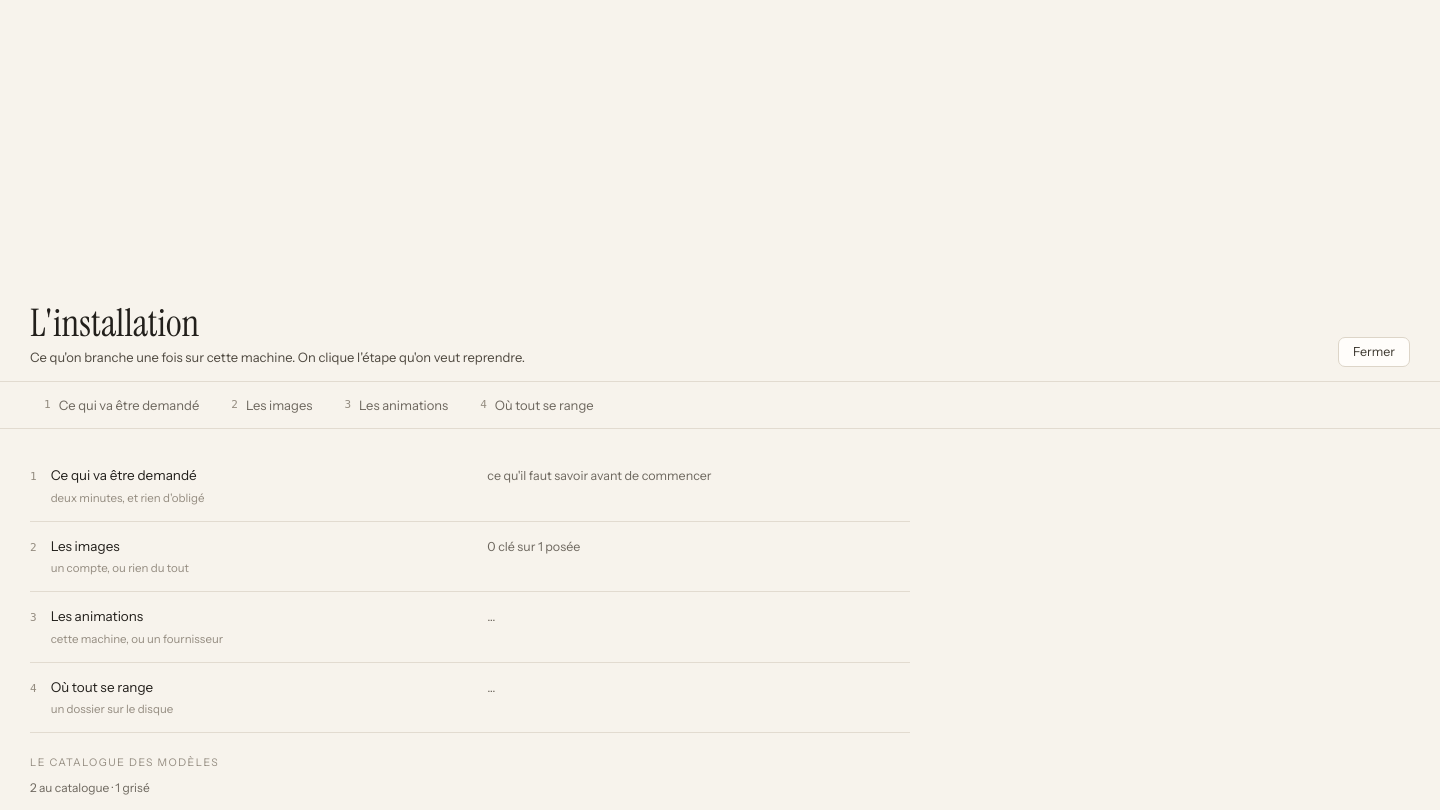
Test: la clé se pose, et ne se relit jamais › un fournisseur qui ne demande rien le dit, il ne se cache pas
(page scrolled)
What coordinates should you click on to do the following:
click the button "2 Les images"
I would click on:
 (272, 405)
Its box is x1=217 y1=390 x2=326 y2=420.
(page scrolled)
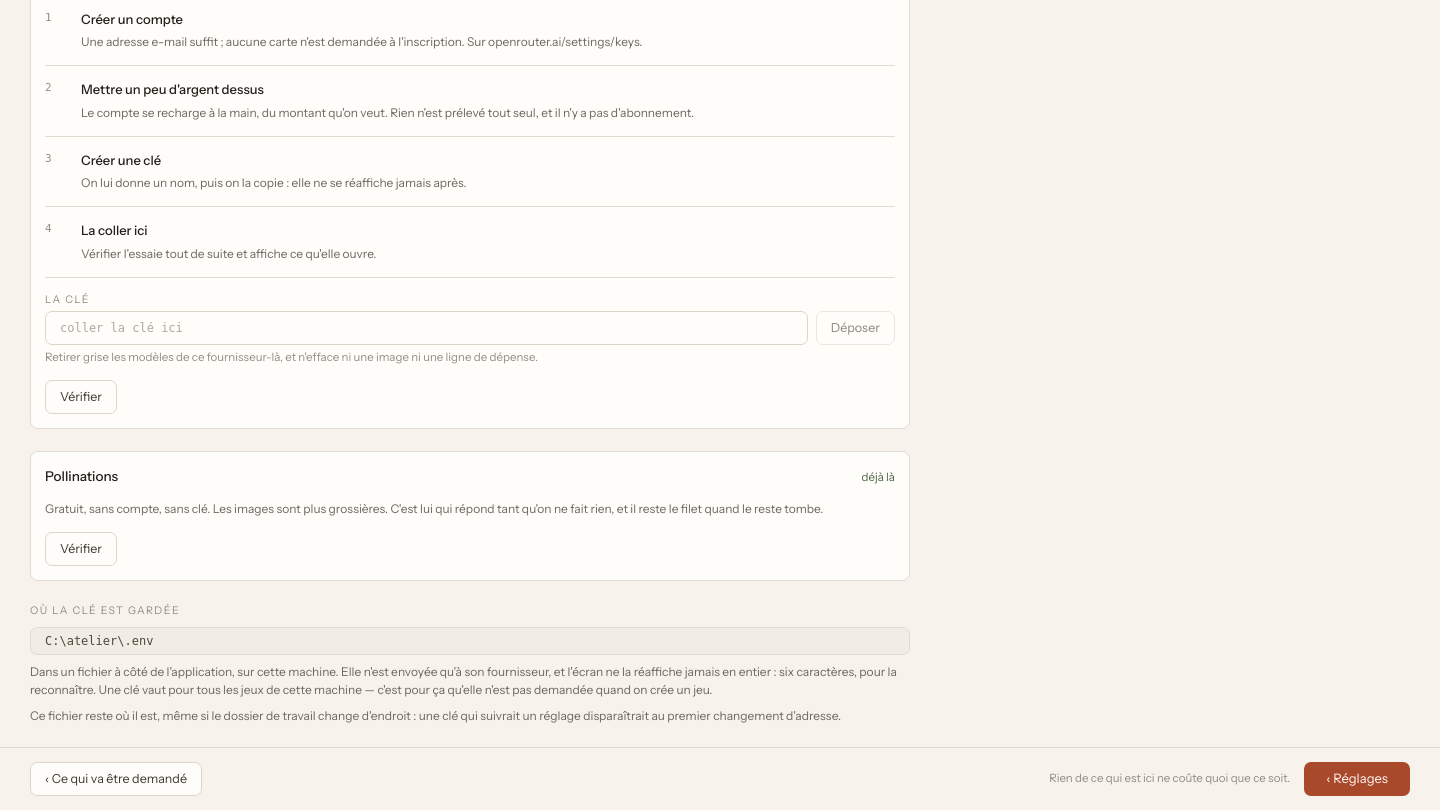
Check: the text "Gratuit, sans compte, sans clé" is shown, box x1=45 y1=501 x2=823 y2=516
